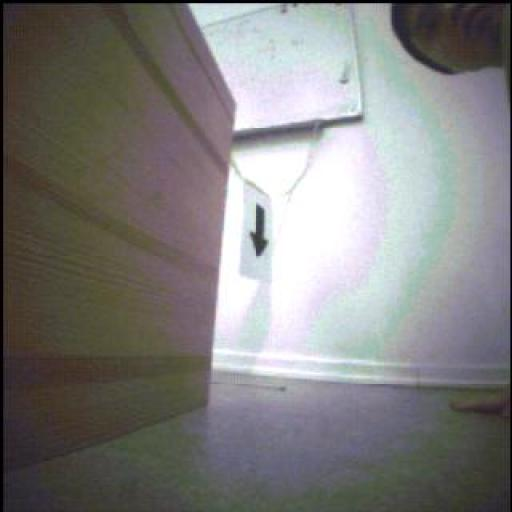Arrow: (252, 206, 270, 257)
